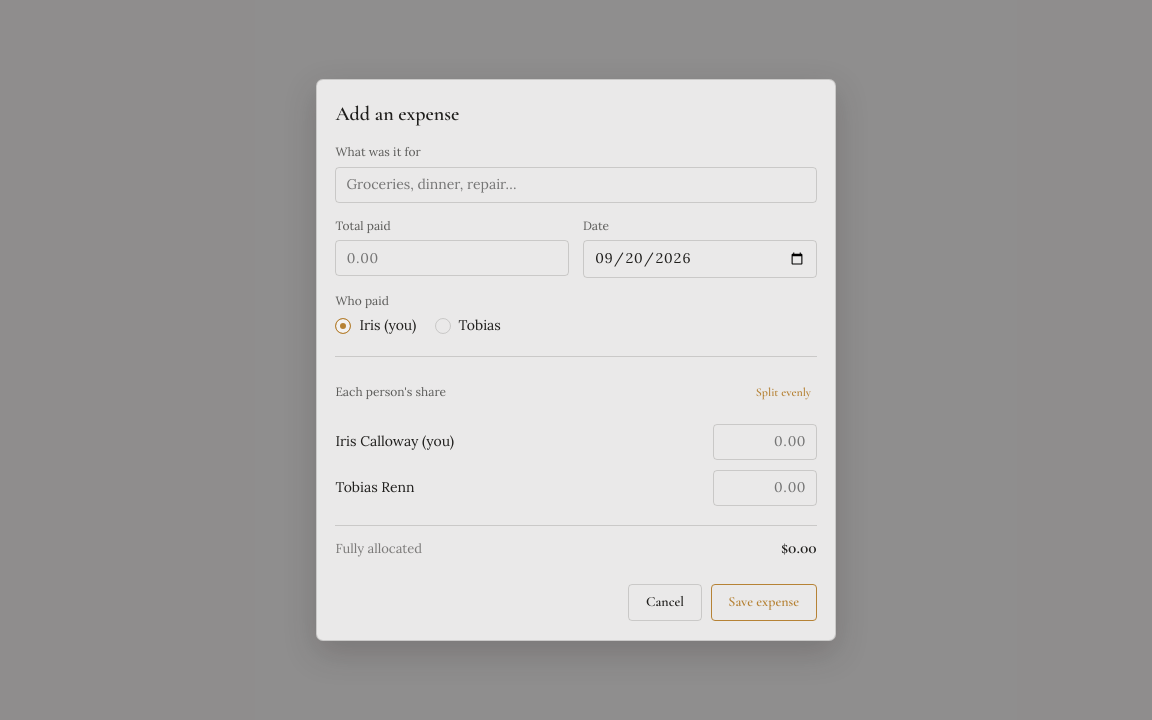
Test: AddExpenseDialog › requires the shares to add up to the total before saving
The width and height of the screenshot is (1152, 720).
Type "Snacks" into the field labelled "What was it for" at {"x": 576, "y": 185}, box [335,167,817,203]
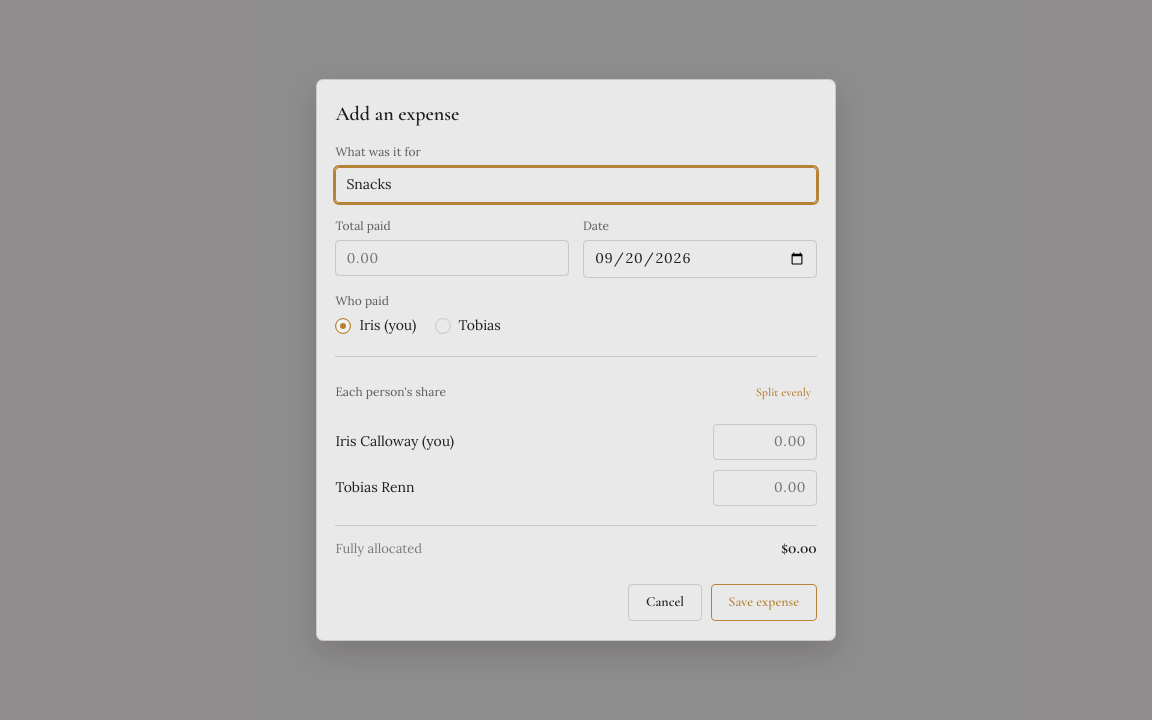
Type "20" into the field labelled "Total paid" at {"x": 452, "y": 258}, box [335,240,569,276]
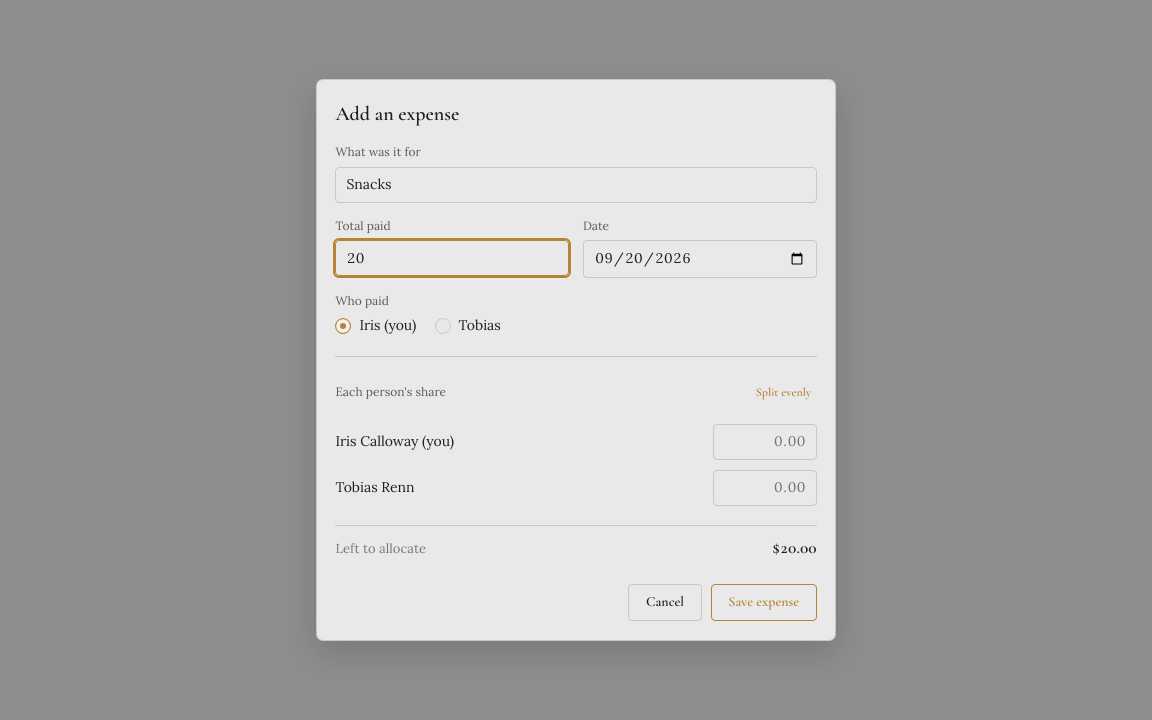
Type "5" into the field with placeholder "0.00" in the row of "Iris Calloway (you)" at {"x": 765, "y": 442}, box [713,424,817,460]
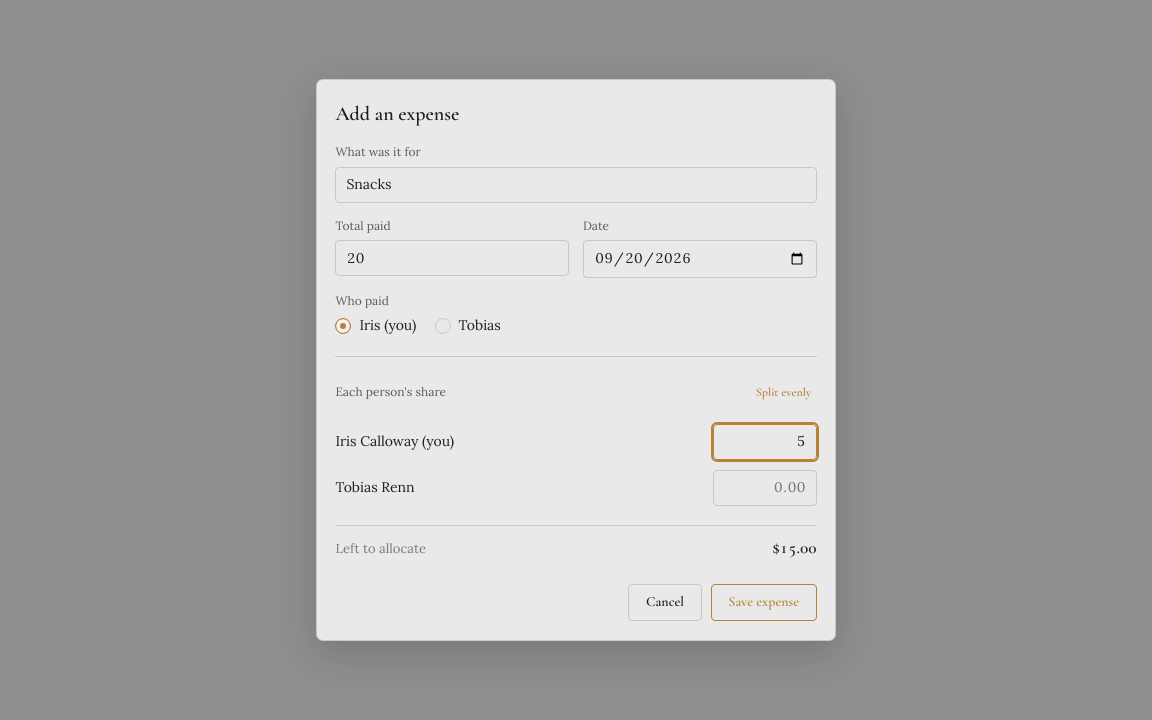
Click the button "Save expense" at {"x": 764, "y": 603}, box [711,584,817,621]
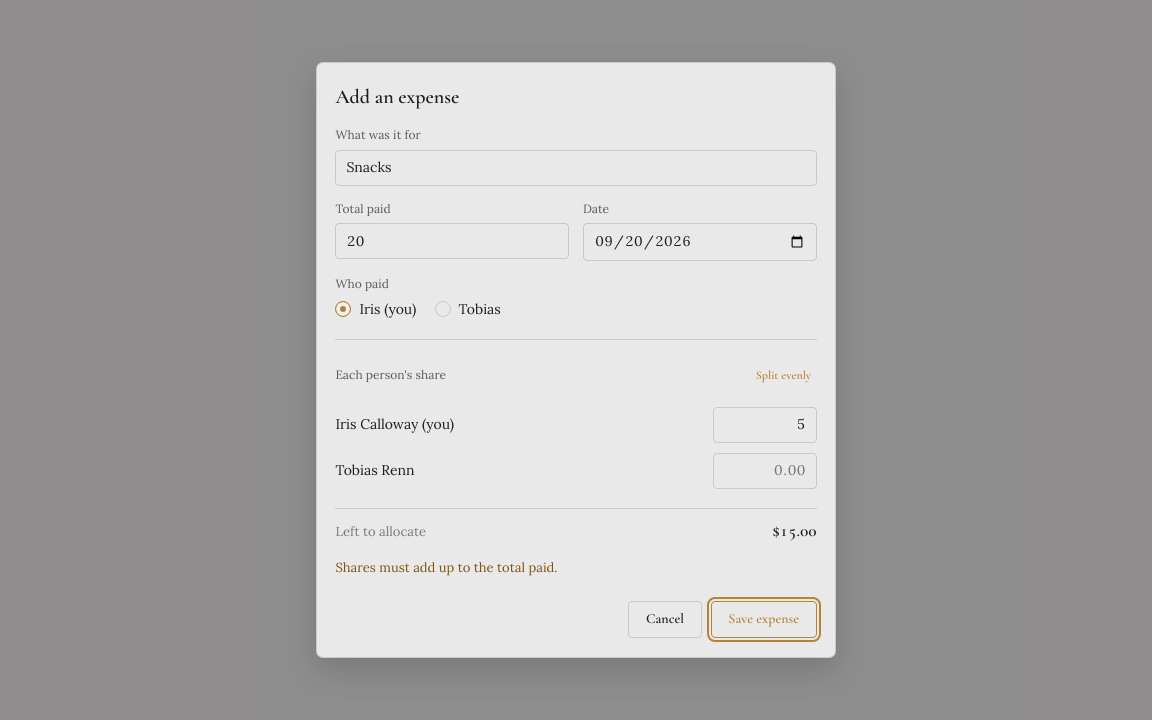
Check: the text "Shares must add up to the total paid." is shown, box [335,559,558,576]
